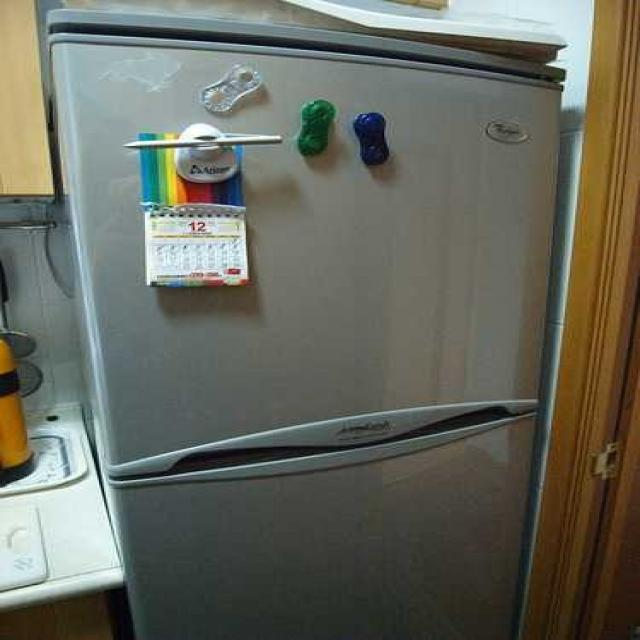refrigerator: (53, 21, 565, 640)
